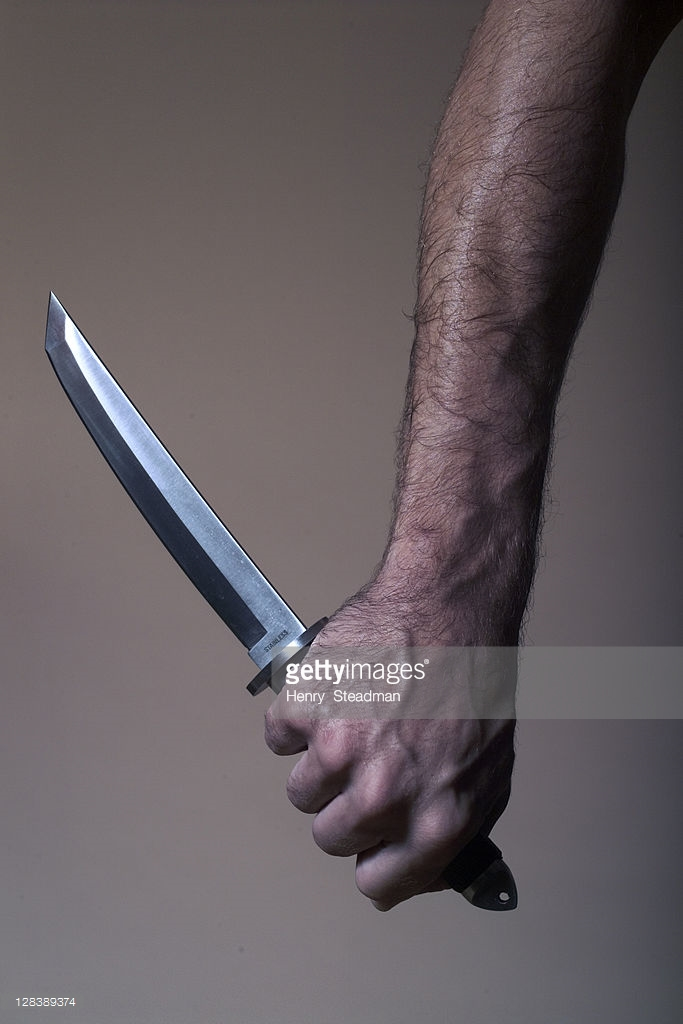knife: (34, 267, 374, 867)
